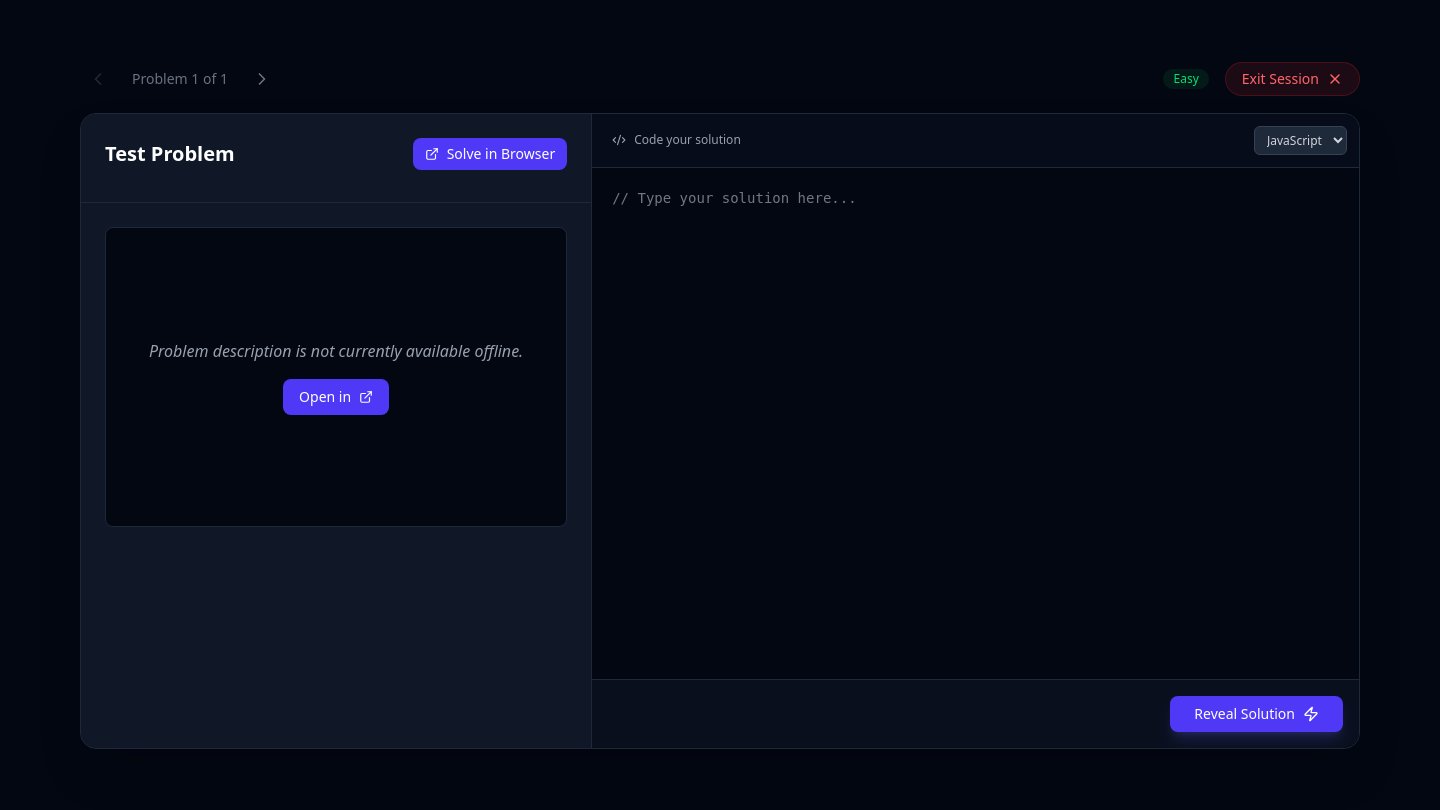
Test: ReviewSession Component › Revealing solution shows rating buttons and notes input
Click the button "Reveal Solution" at (1257, 714), box 1170,696 -> 1343,732
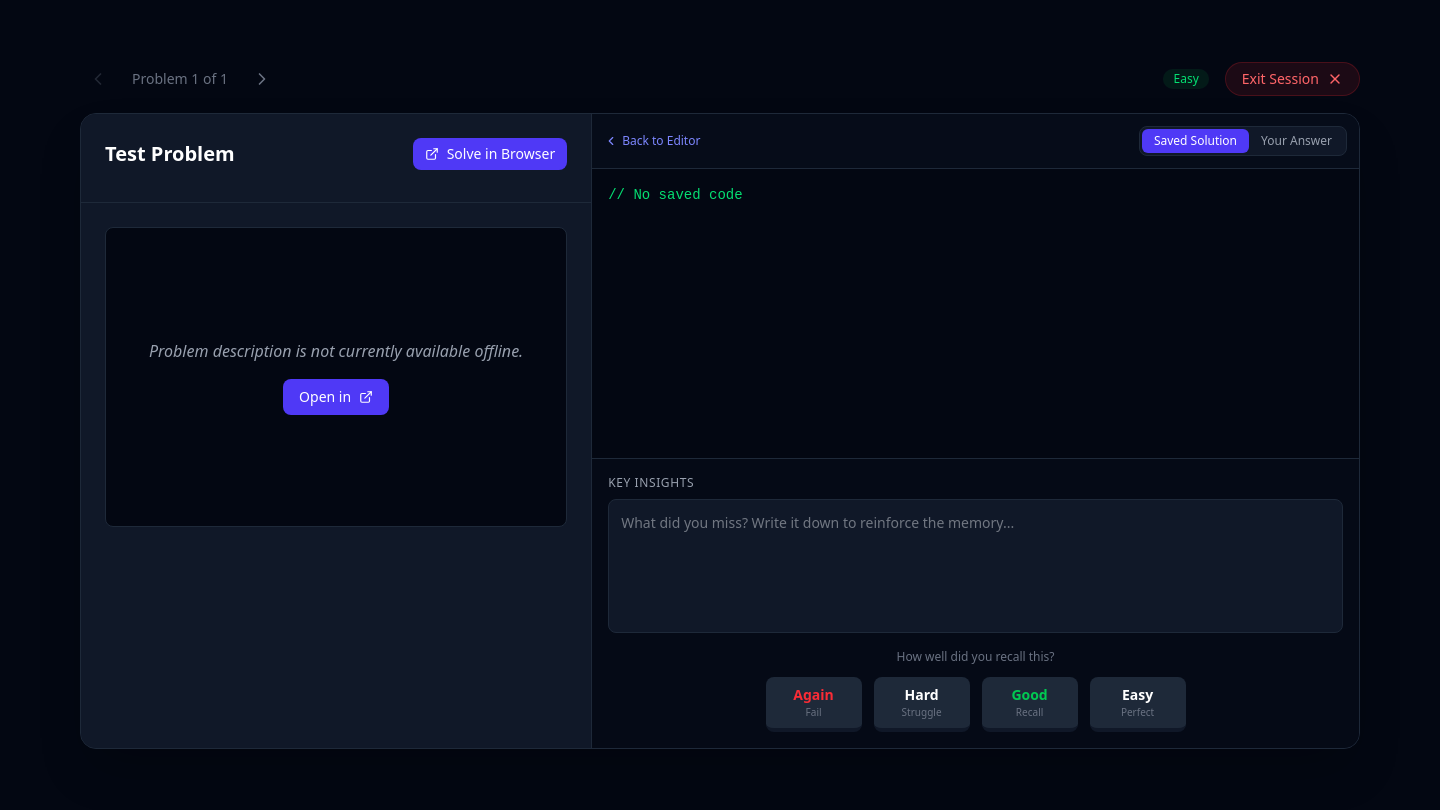
Now the heading "How well did you recall this?" is shown, box 897,649 -> 1055,665
Now the text "Good" is shown, box 1011,685 -> 1048,705
Now the text box with placeholder "What did you miss? Write it down to reinforce the memory..." is shown, box 608,498 -> 1343,633
